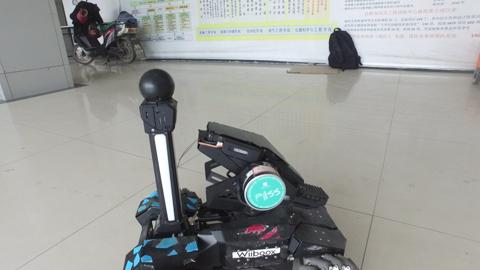bag: (323, 26, 369, 74)
chariot: (128, 84, 340, 264)
